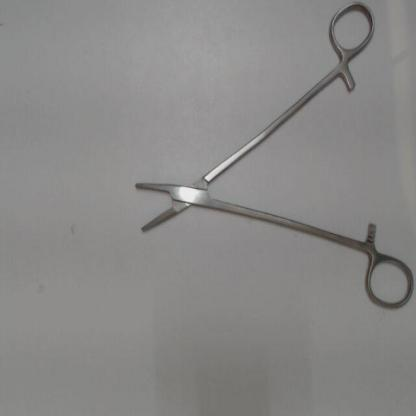8 Mayo Needle Holder: (125, 0, 416, 320)
